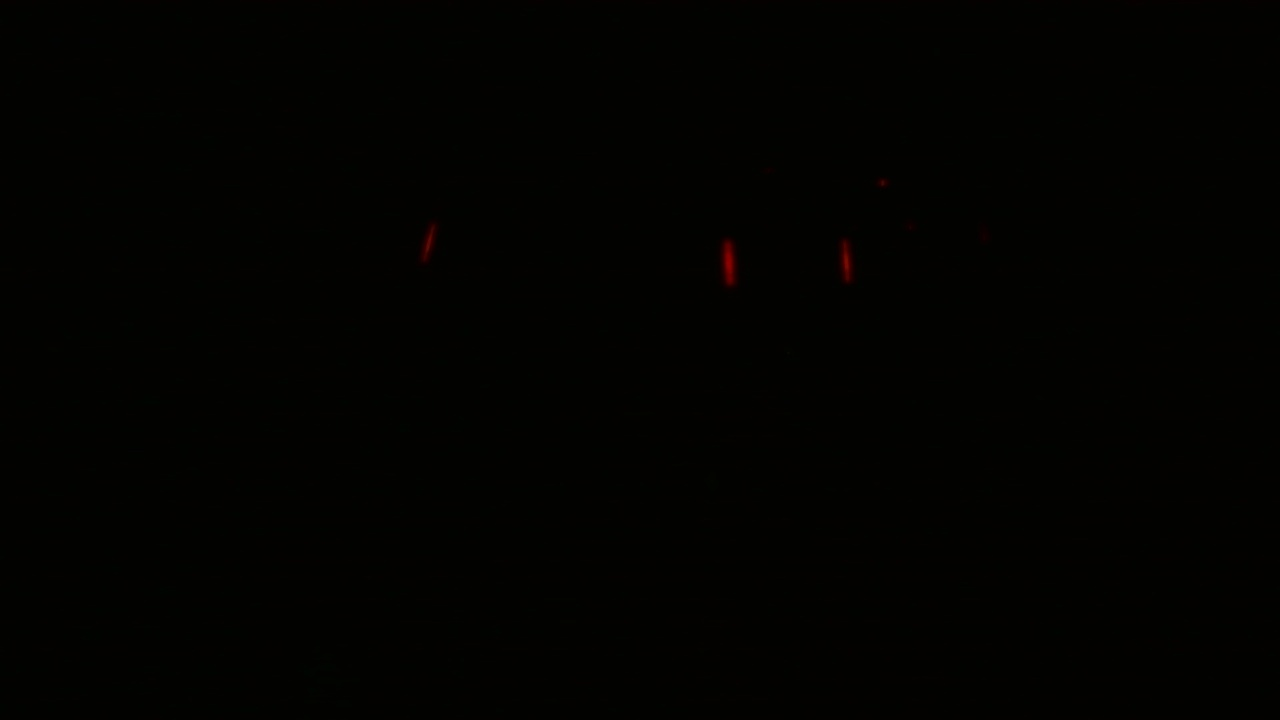pair1: (720, 235, 856, 289)
